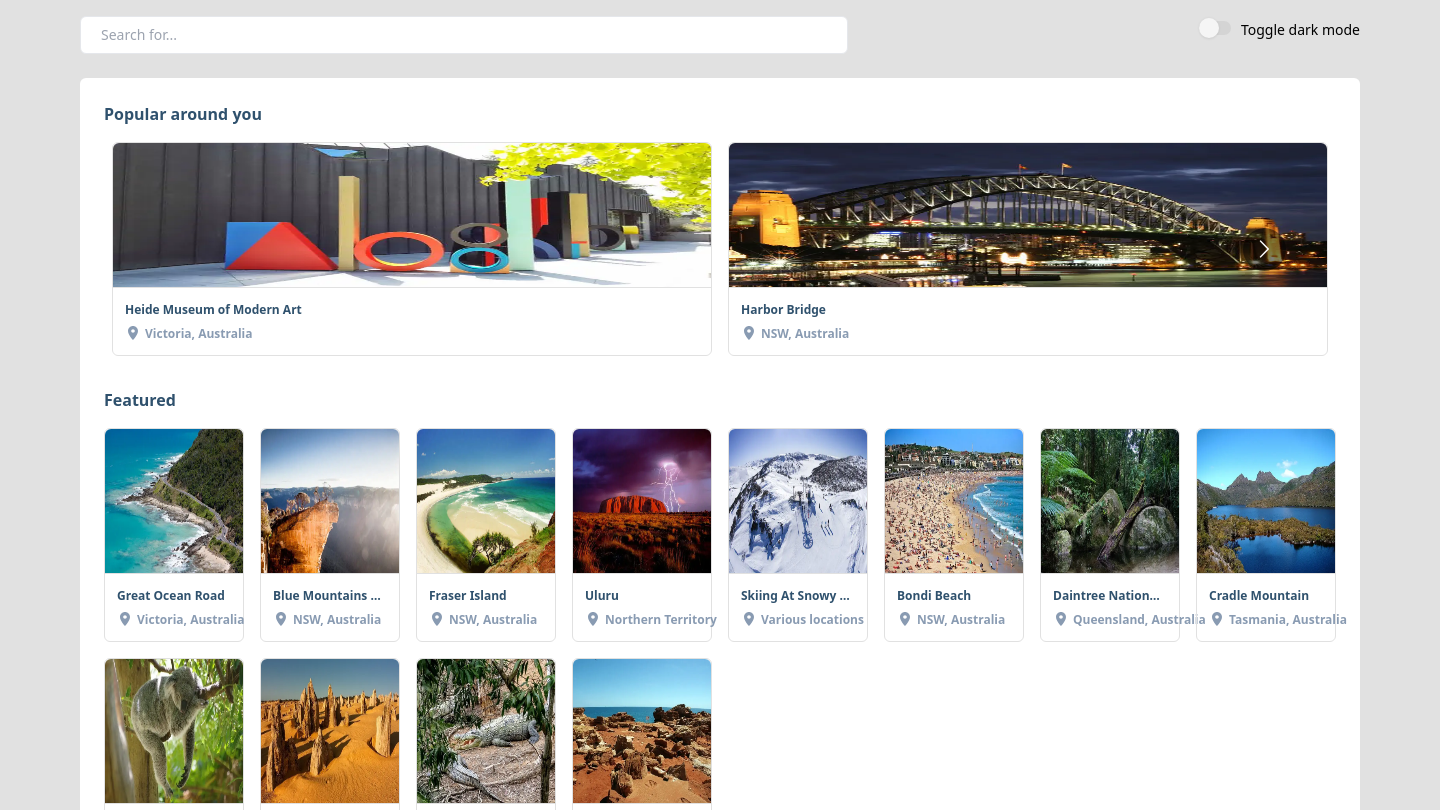
Test: when the Home component is rendered › filters popular cards correctly when search input changes
Type "test" into the field with placeholder "Search for..." at [464, 35], box [80, 16, 848, 54]
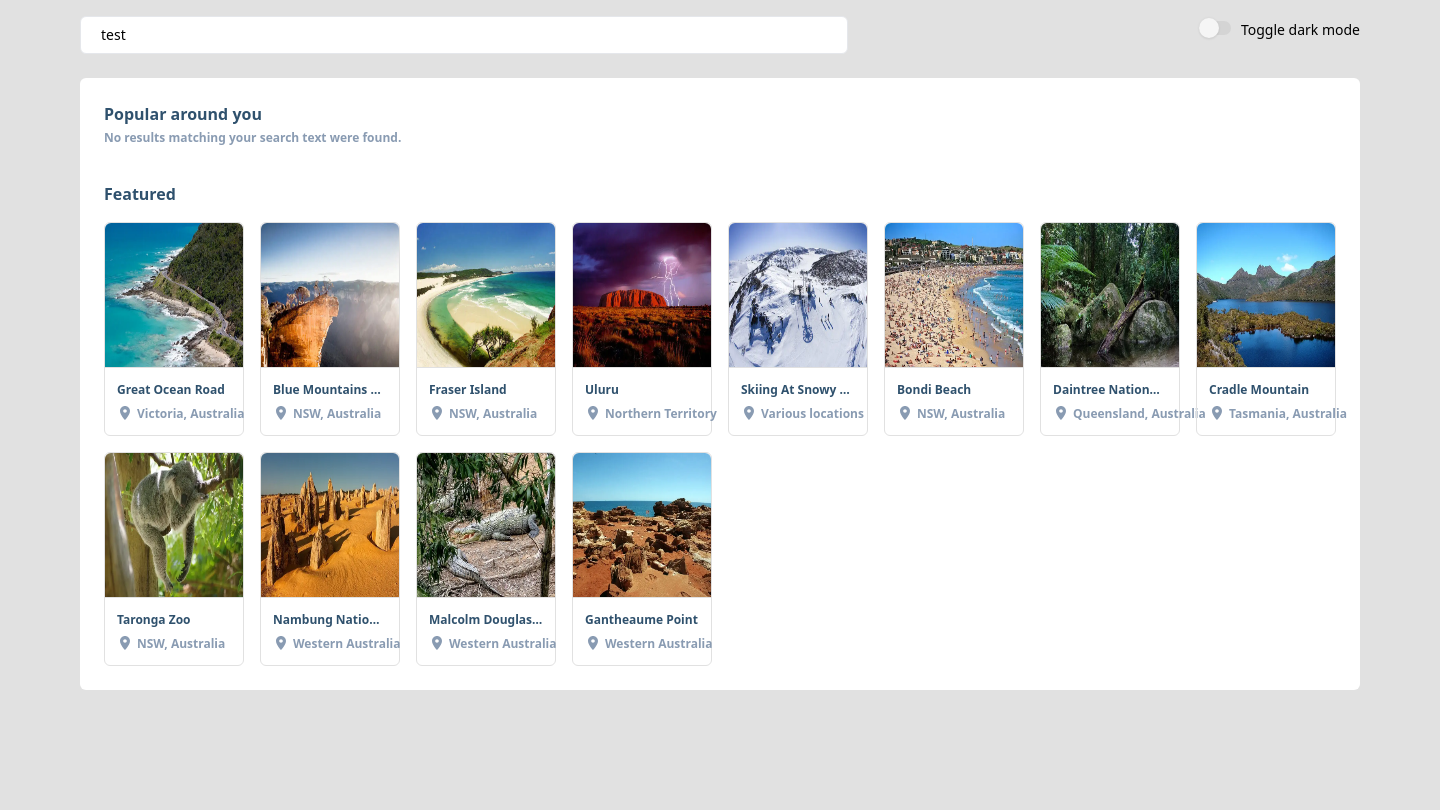
Check: no elements with test id "popular-card" are shown
